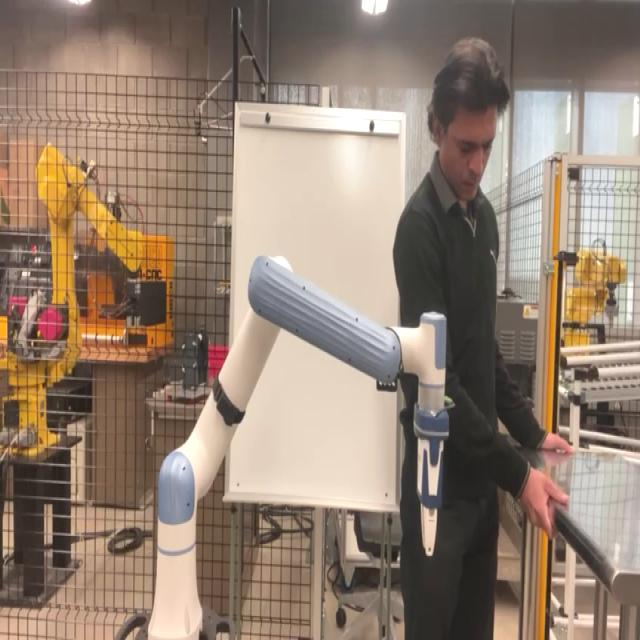robot: (117, 252, 452, 637)
